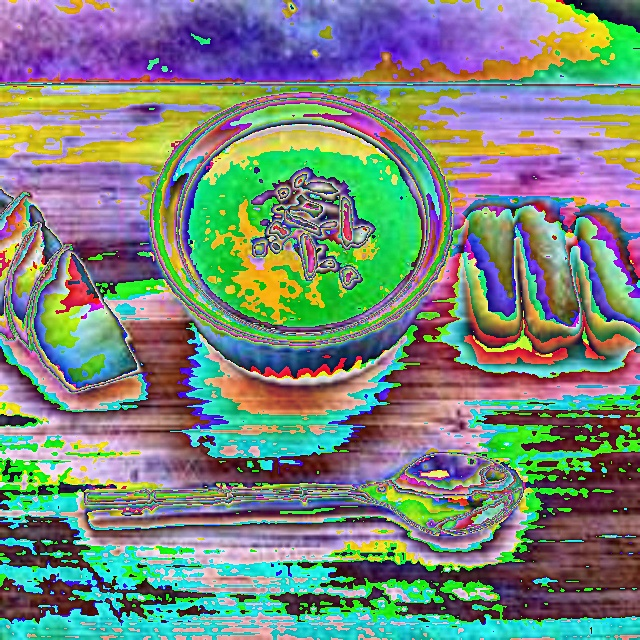background: (185, 165, 639, 357), (175, 120, 424, 334), (0, 180, 143, 392)
